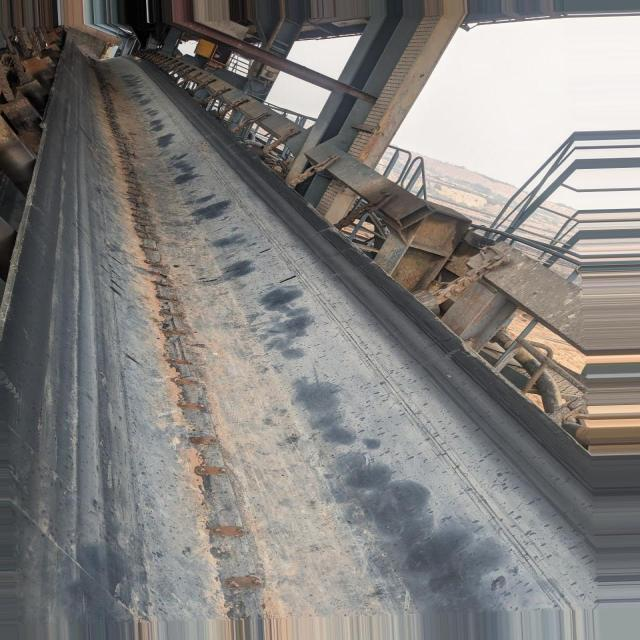Roller: (2, 113, 35, 192), (0, 209, 18, 286), (17, 78, 50, 120)
patch work: (91, 69, 280, 613)
